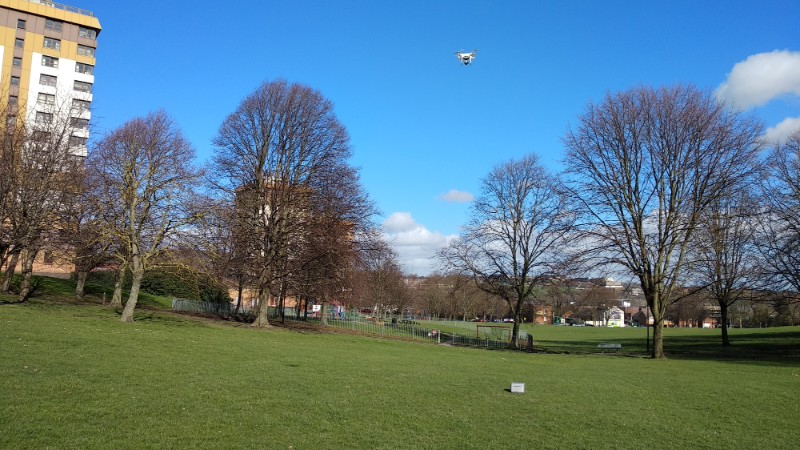drone: (452, 48, 482, 67)
